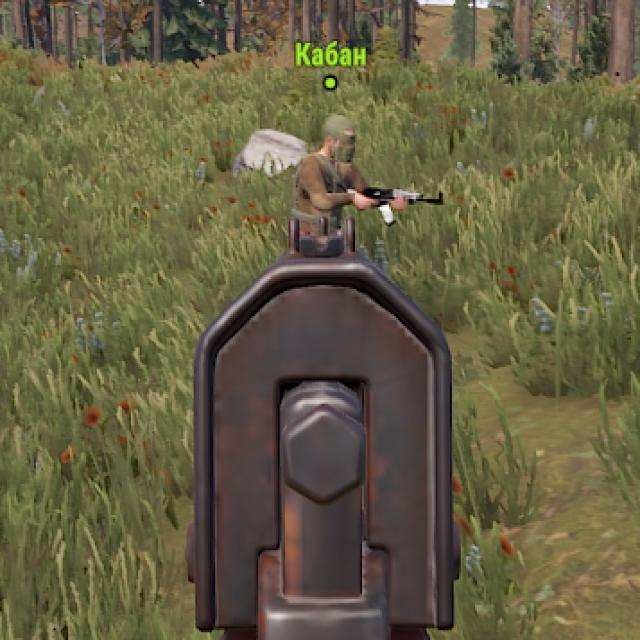Player: (294, 114, 378, 216)
